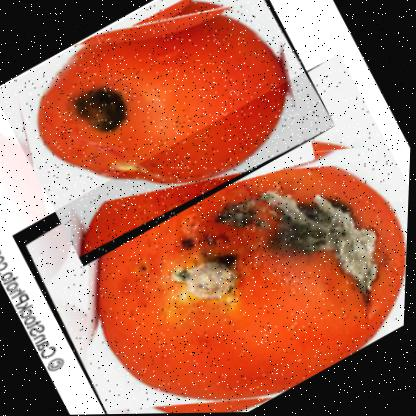tomato_rotten: (6, 50, 413, 415), (0, 0, 340, 267)
